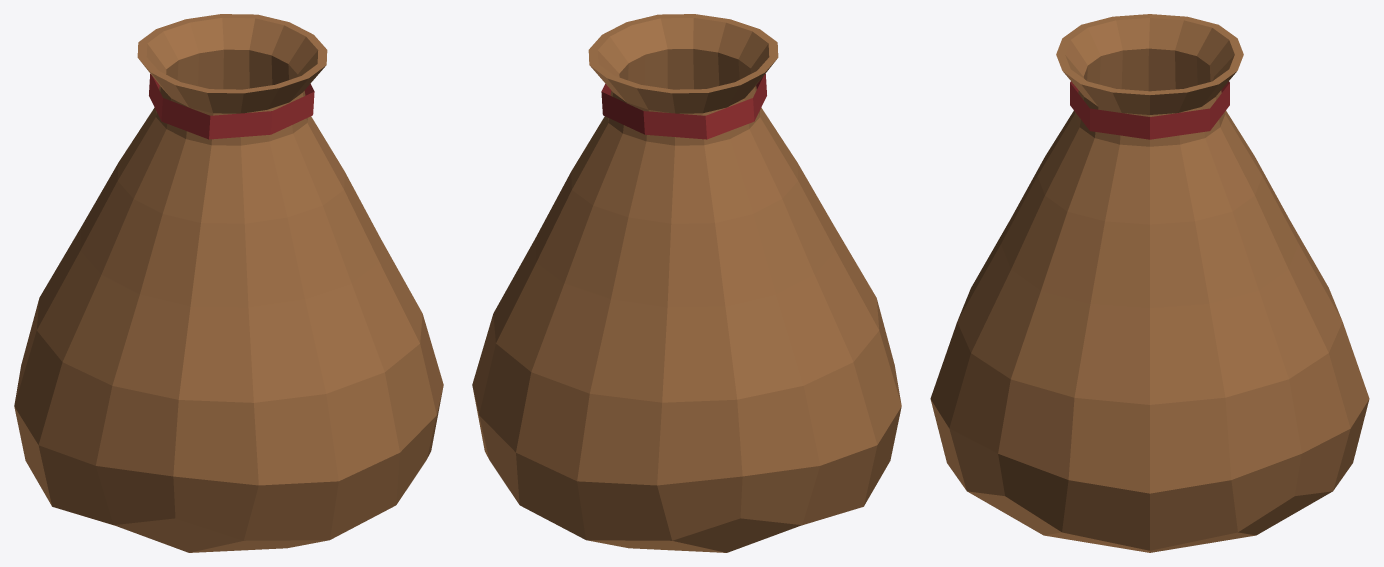
The model's file is Bolsa.fbx.
3 renders of one model, left to right at view 1: azimuth 30°, elevation 25°; view 2: azimuth 150°, elevation 25°; view 3: azimuth 270°, elevation 25°, orthographic.
Visible parts, largest first — view 1: Bag; view 2: Bag; view 3: Bag.
Part boxes in pixels (left/top/right/bottom): Bag: left=14, top=14, right=443, bottom=552; Bag: left=472, top=14, right=901, bottom=552; Bag: left=930, top=14, right=1369, bottom=552.
Size of the model in its own units: 47.04 by 54.77 by 47.04.
